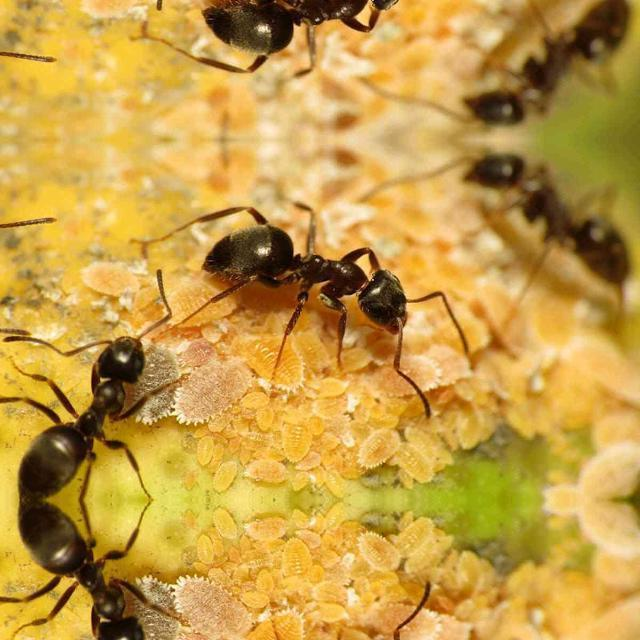Lasius: (168, 170, 470, 376), (168, 0, 468, 110), (0, 321, 172, 499), (460, 141, 640, 299), (459, 0, 638, 138), (0, 500, 172, 640), (0, 195, 64, 263), (0, 17, 64, 85)
